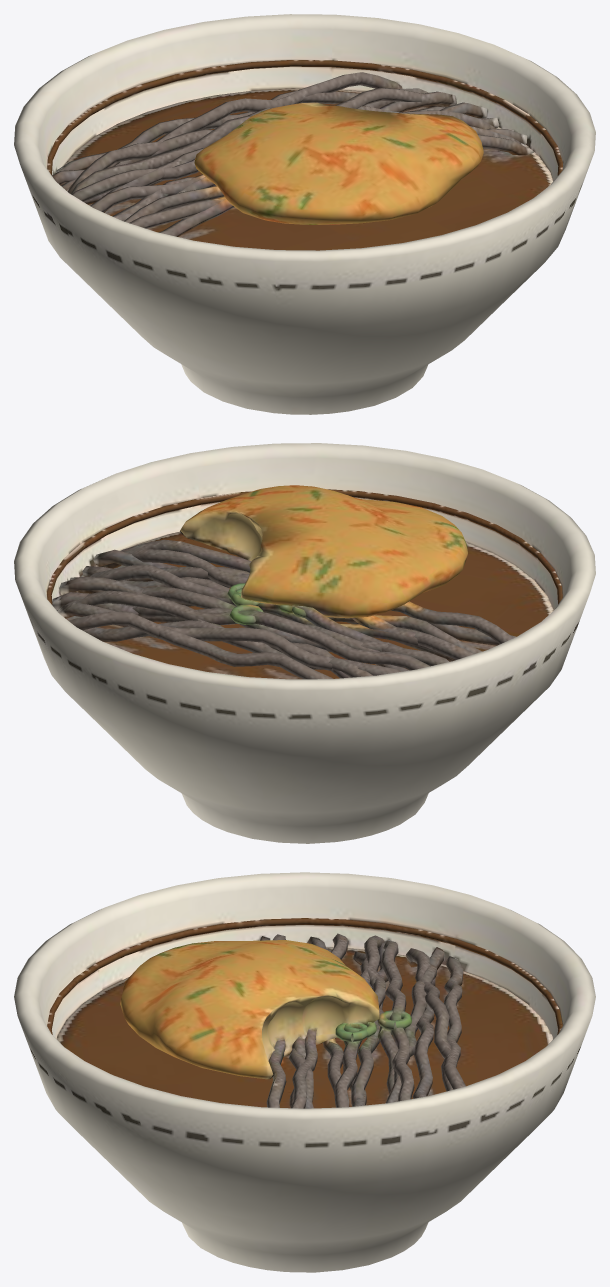
File: soba_b1.glb
The picture shows the model from 3 angles, top to bottom: view 1: azimuth 30°, elevation 25°; view 2: azimuth 150°, elevation 25°; view 3: azimuth 270°, elevation 25°; orthographic projection.
Parts seen in each view (by area): view 1: prop_soba_b1_felt; view 2: prop_soba_b1_felt; view 3: prop_soba_b1_felt.
Part boxes in pixels (x1,y1,x2,y2): prop_soba_b1_felt: (14, 14, 595, 414); prop_soba_b1_felt: (14, 443, 595, 843); prop_soba_b1_felt: (14, 872, 595, 1272).
Size of the model in its own units: 0.3 by 0.1437 by 0.3.
1 material, 1 textured.
